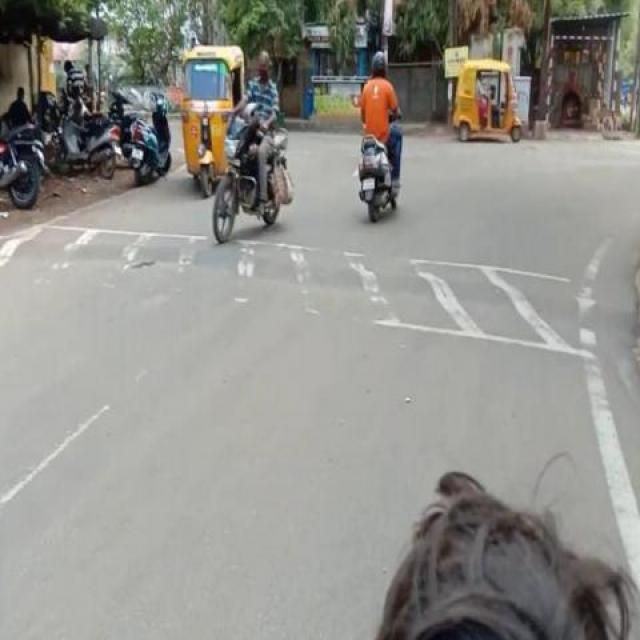Speed Bump: (203, 244, 638, 343), (1, 234, 204, 278)
